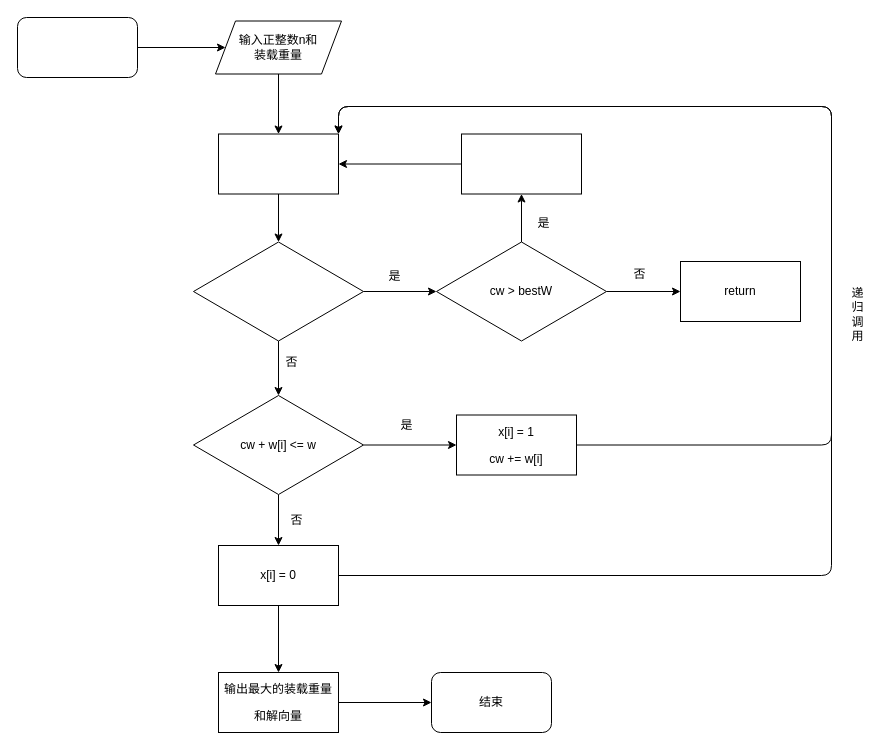
This 890x752 diagram has some shape labels left out. The centre of each missing label's shape, as x and y in pixels:
bestW = cw bestX = x: the point at 521,163
i == n: the point at 278,291
开始: the point at 77,47
调用递归函数搜索所有可能的解: the point at 278,163
